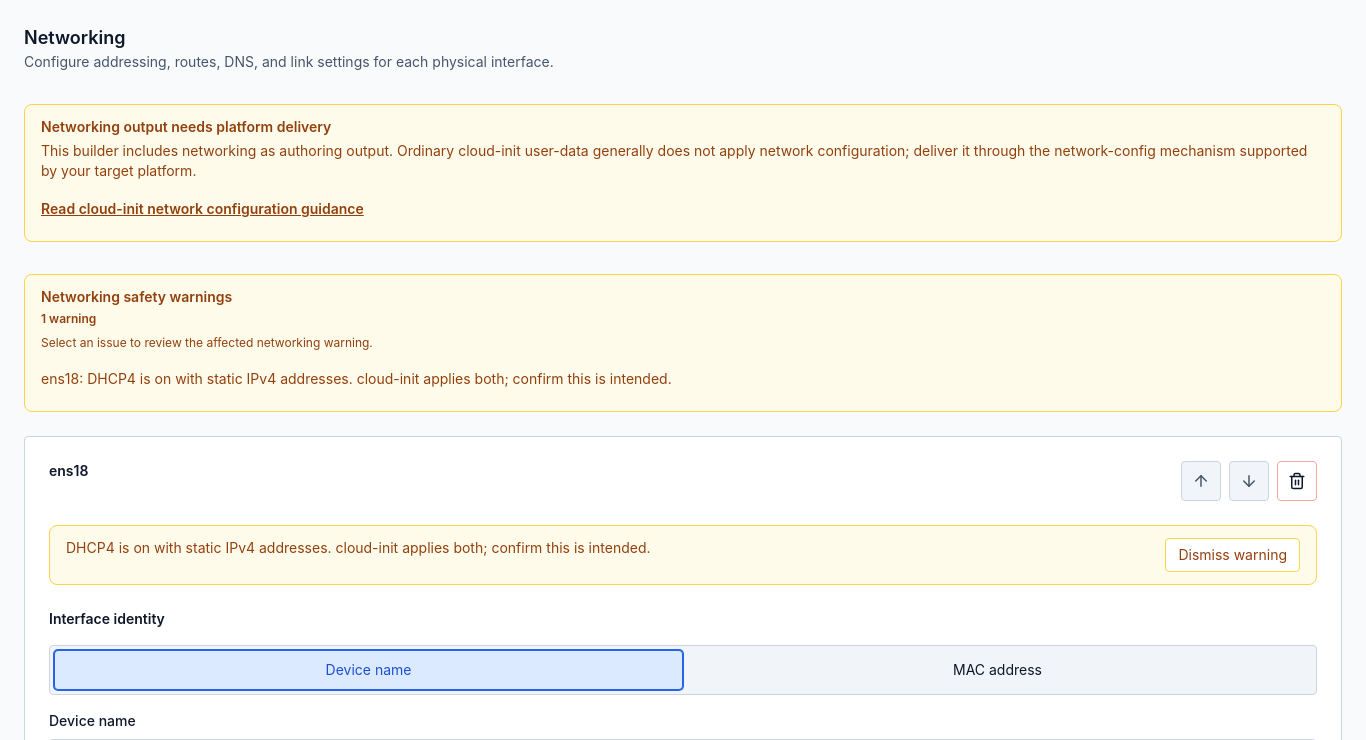
Test: NetworkingValidation › dismisses a risk warning from the card and summary without confirmation
Click the button "Dismiss warning" at (1233,555), box [1165,538,1300,572]
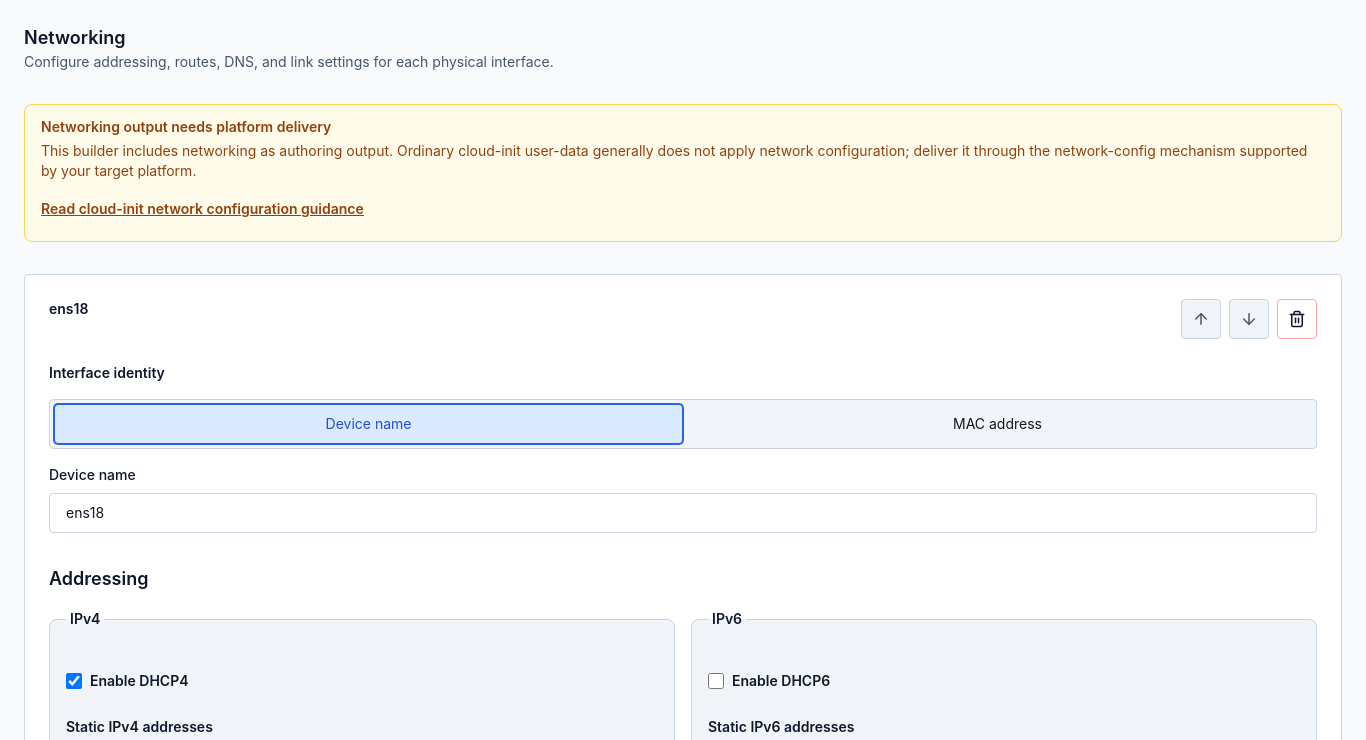
Now the button "DHCP4 is on with static IPv4 addresses. cloud-init applies both; confirm this is intended." is gone
Now the element with id "network-risk-dismiss-risk-warnings" is gone
